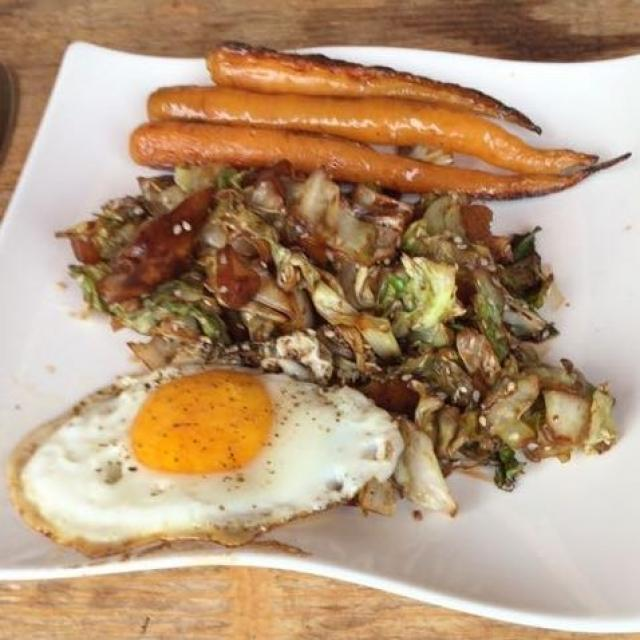carrot: (140, 62, 601, 189)
egg: (15, 364, 412, 555)
